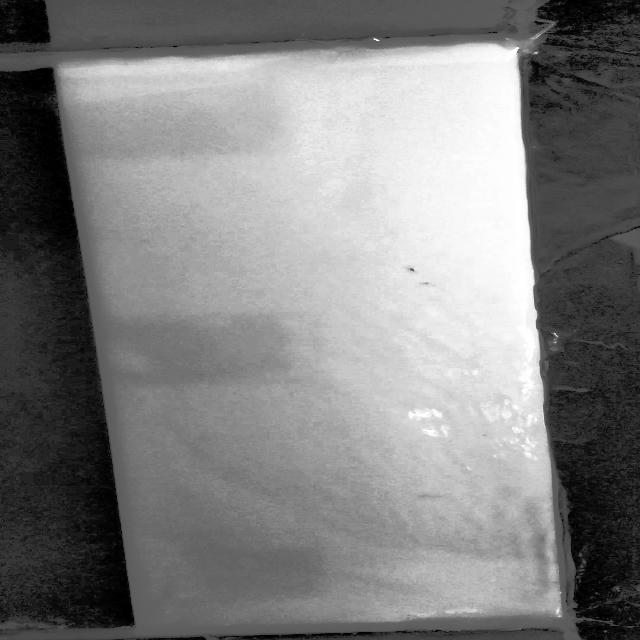shrimp: (388, 256, 436, 280)
